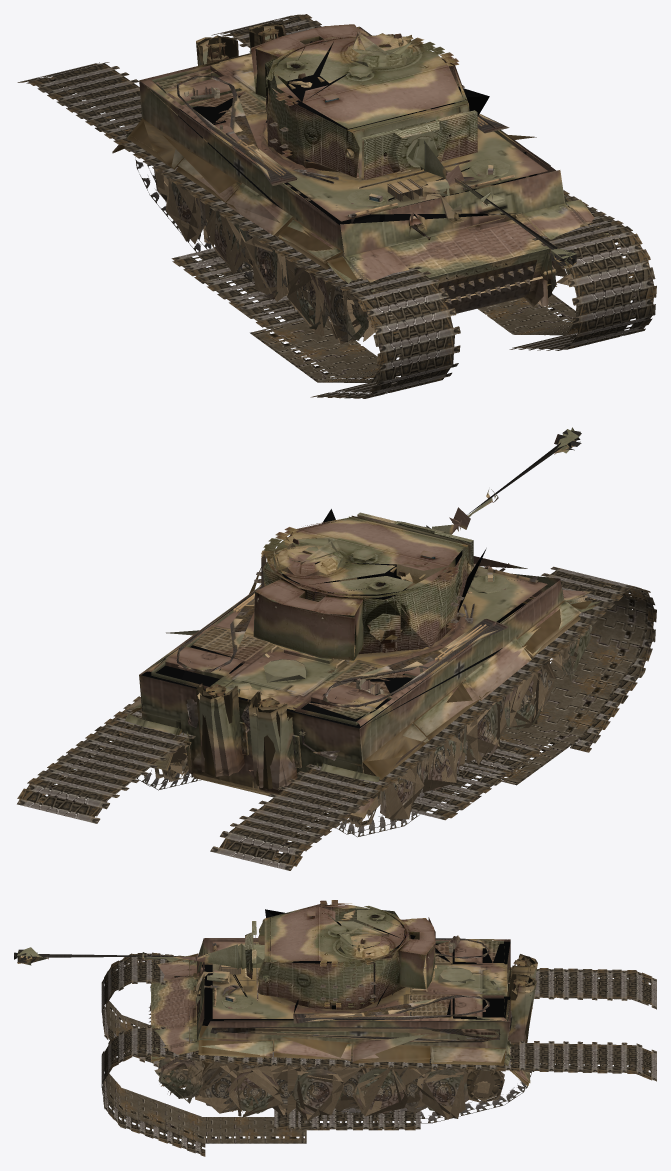
Rendered from tiger_i_mobil.glb.
3 views of the same model, one above another, from view 1: azimuth 30°, elevation 25°; view 2: azimuth 150°, elevation 25°; view 3: azimuth 270°, elevation 25° (orthographic). The views are drawn at different scales.
Parts seen in each view (by area): view 1: hull, track1, turret, track2, mount, hull-rear, trk, storage-optiona, wheel18, wheel22, interior.002, wheel30 (+22 smaller); view 2: track1, hull, turret, hull-rear, track2, storage-optiona, grill-optionb, excover2-optionb, excover1-optionb, line02, cable1-optionb, wheel18 (+19 smaller); view 3: track2, turret, hull, track1, hull-rear, storage-optiona, cable3-optionb, wheel23, wheel19, wheel27, wheel31, skirt6-optionb (+24 smaller).
Part boxes in pixels (bbox=[...]): hull: bbox=[139, 26, 568, 334]; track1: bbox=[17, 62, 460, 398]; turret: bbox=[265, 31, 469, 178]; track2: bbox=[211, 14, 656, 350]; mount: bbox=[361, 110, 477, 179]; hull-rear: bbox=[143, 28, 369, 131]; trk: bbox=[438, 259, 537, 313]; storage-optiona: bbox=[251, 24, 360, 97]; wheel18: bbox=[287, 267, 331, 336]; wheel22: bbox=[244, 237, 289, 301]; interior.002: bbox=[265, 41, 489, 223]; wheel30: bbox=[166, 178, 206, 243]; track1: bbox=[210, 566, 656, 870]; hull: bbox=[139, 556, 564, 795]; turret: bbox=[261, 515, 473, 654]; hull-rear: bbox=[143, 624, 427, 768]; track2: bbox=[17, 696, 200, 823]; storage-optiona: bbox=[253, 579, 363, 660]; grill-optionb: bbox=[193, 626, 410, 719]; excover2-optionb: bbox=[197, 685, 244, 776]; excover1-optionb: bbox=[250, 691, 297, 789]; line02: bbox=[139, 645, 421, 728]; cable1-optionb: bbox=[323, 619, 508, 707]; wheel18: bbox=[504, 670, 545, 729]; track2: bbox=[101, 1025, 656, 1156]; turret: bbox=[257, 900, 410, 1009]; hull: bbox=[150, 938, 510, 1087]; track1: bbox=[101, 952, 656, 1067]; hull-rear: bbox=[403, 935, 512, 1039]; storage-optiona: bbox=[399, 917, 435, 989]; cable3-optionb: bbox=[210, 1028, 499, 1042]; wheel23: bbox=[292, 1059, 344, 1119]; wheel19: bbox=[227, 1057, 282, 1117]; wheel27: bbox=[352, 1067, 408, 1116]; wheel31: bbox=[417, 1068, 468, 1119]; skirt6-optionb: bbox=[352, 1033, 430, 1063].
Size of the model in its own units: 4.13 by 3.38 by 10.69.
Materials: 9 (8 with a texture image).
